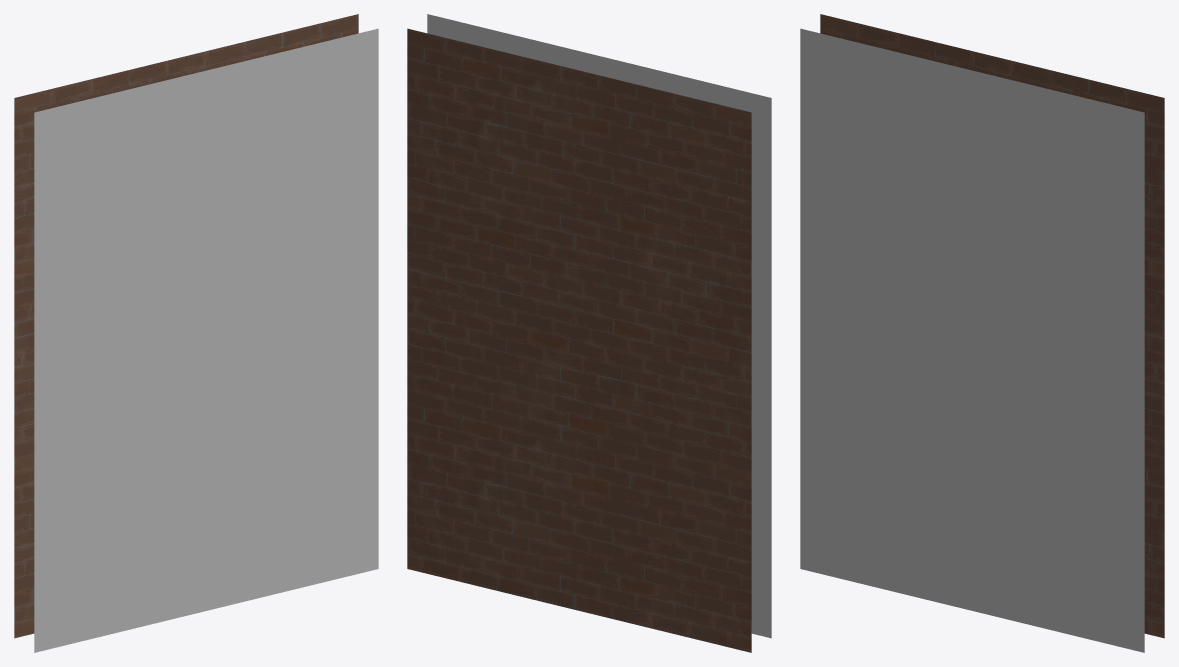
The model's file is Trim_Plain_3.gltf.
3 views of the same model, side by side, from view 1: azimuth 30°, elevation 25°; view 2: azimuth 150°, elevation 25°; view 3: azimuth 330°, elevation 25° (orthographic).
Visible parts, largest first — view 1: Trim_Plain_3; view 2: Trim_Plain_3; view 3: Trim_Plain_3.
Part boxes in pixels (x1,y1,x2,y2): Trim_Plain_3: [14, 14, 378, 652]; Trim_Plain_3: [407, 14, 771, 652]; Trim_Plain_3: [800, 14, 1164, 652].
Bounding box in the file's own units: 2 × 3 × 0.2.
